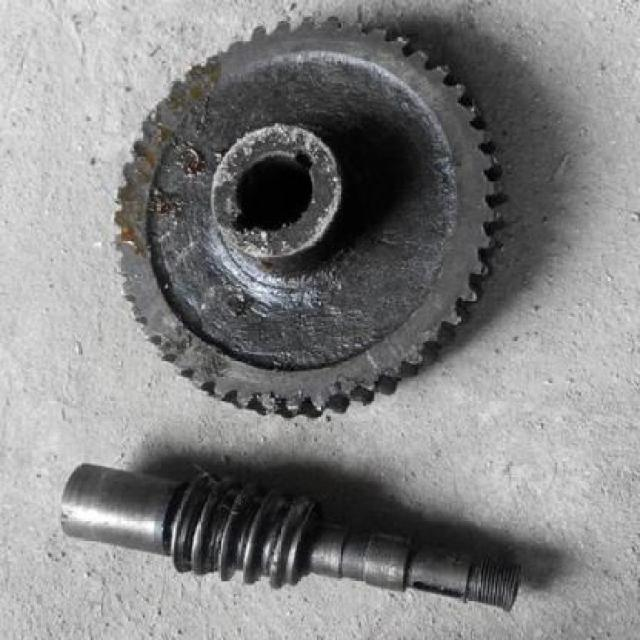Gear: (113, 16, 509, 422), (160, 468, 322, 594)
